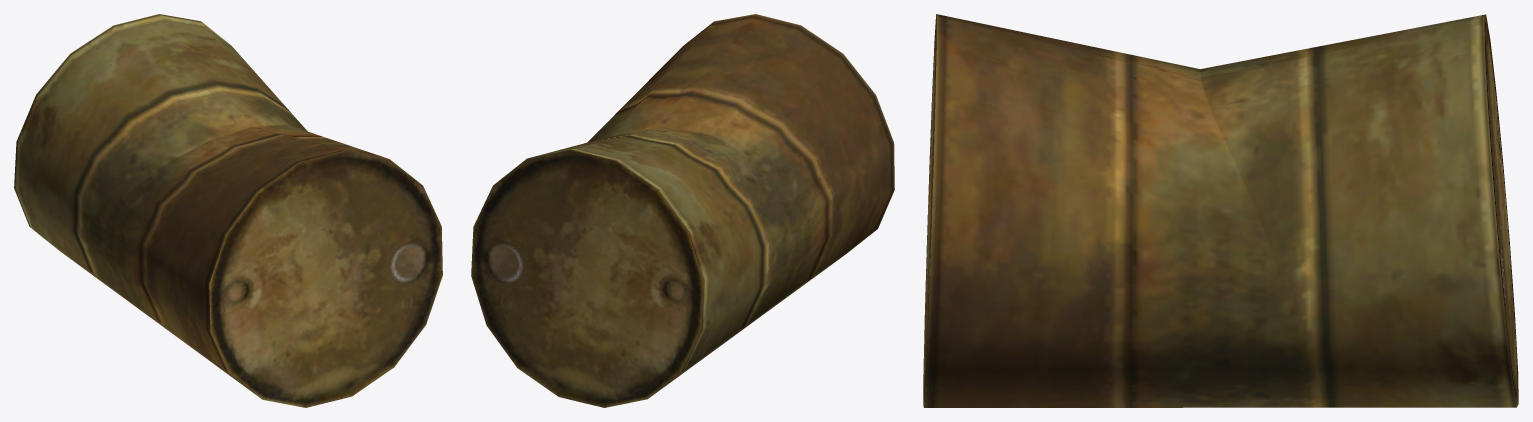
The model's file is od_single_on_side_dented_orange.fbx.
3 views of the same model, side by side, from view 1: azimuth 30°, elevation 25°; view 2: azimuth 150°, elevation 25°; view 3: azimuth 270°, elevation 25° (orthographic). The views are drawn at different scales.
Parts seen in each view (by area): view 1: mesh_0; view 2: mesh_0; view 3: mesh_0.
Boxes of the visible parts, x1=… form: mesh_0: x1=14, y1=14, x2=442, y2=407; mesh_0: x1=471, y1=14, x2=894, y2=407; mesh_0: x1=923, y1=14, x2=1518, y2=407.
Size of the model in its own units: 58.66 by 58.56 by 89.07.
Materials: 1 (1 with a texture image).
